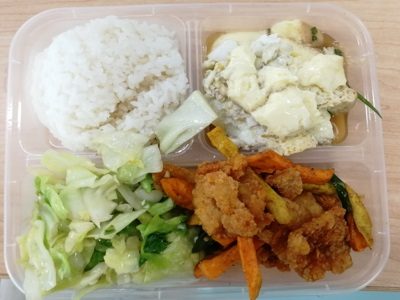cch: (34, 163, 175, 273)
jdg: (215, 28, 354, 140)
r5: (203, 164, 351, 271)
rice: (36, 29, 162, 133)
